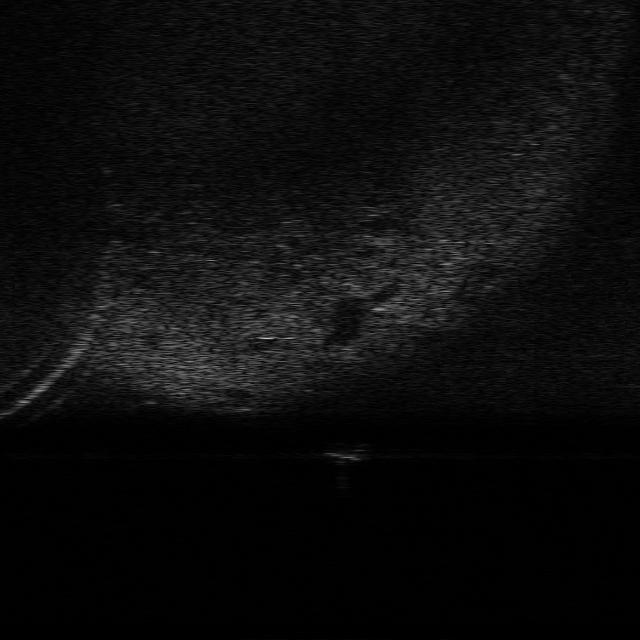cube: (325, 442, 370, 465)
